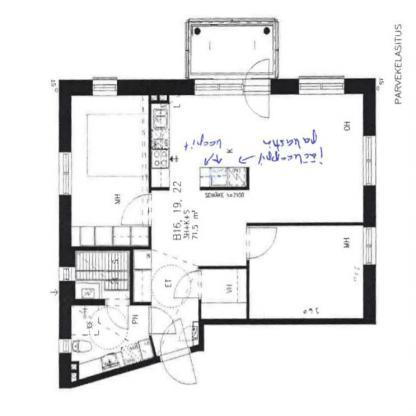door: (157, 315, 204, 390), (242, 56, 274, 122), (243, 224, 282, 260), (167, 268, 208, 302), (119, 193, 157, 228), (146, 305, 178, 338)
window: (297, 73, 348, 99), (54, 149, 78, 199), (189, 77, 246, 98), (357, 135, 379, 189), (357, 226, 383, 268), (87, 74, 122, 96), (55, 263, 76, 289), (54, 337, 76, 359)
